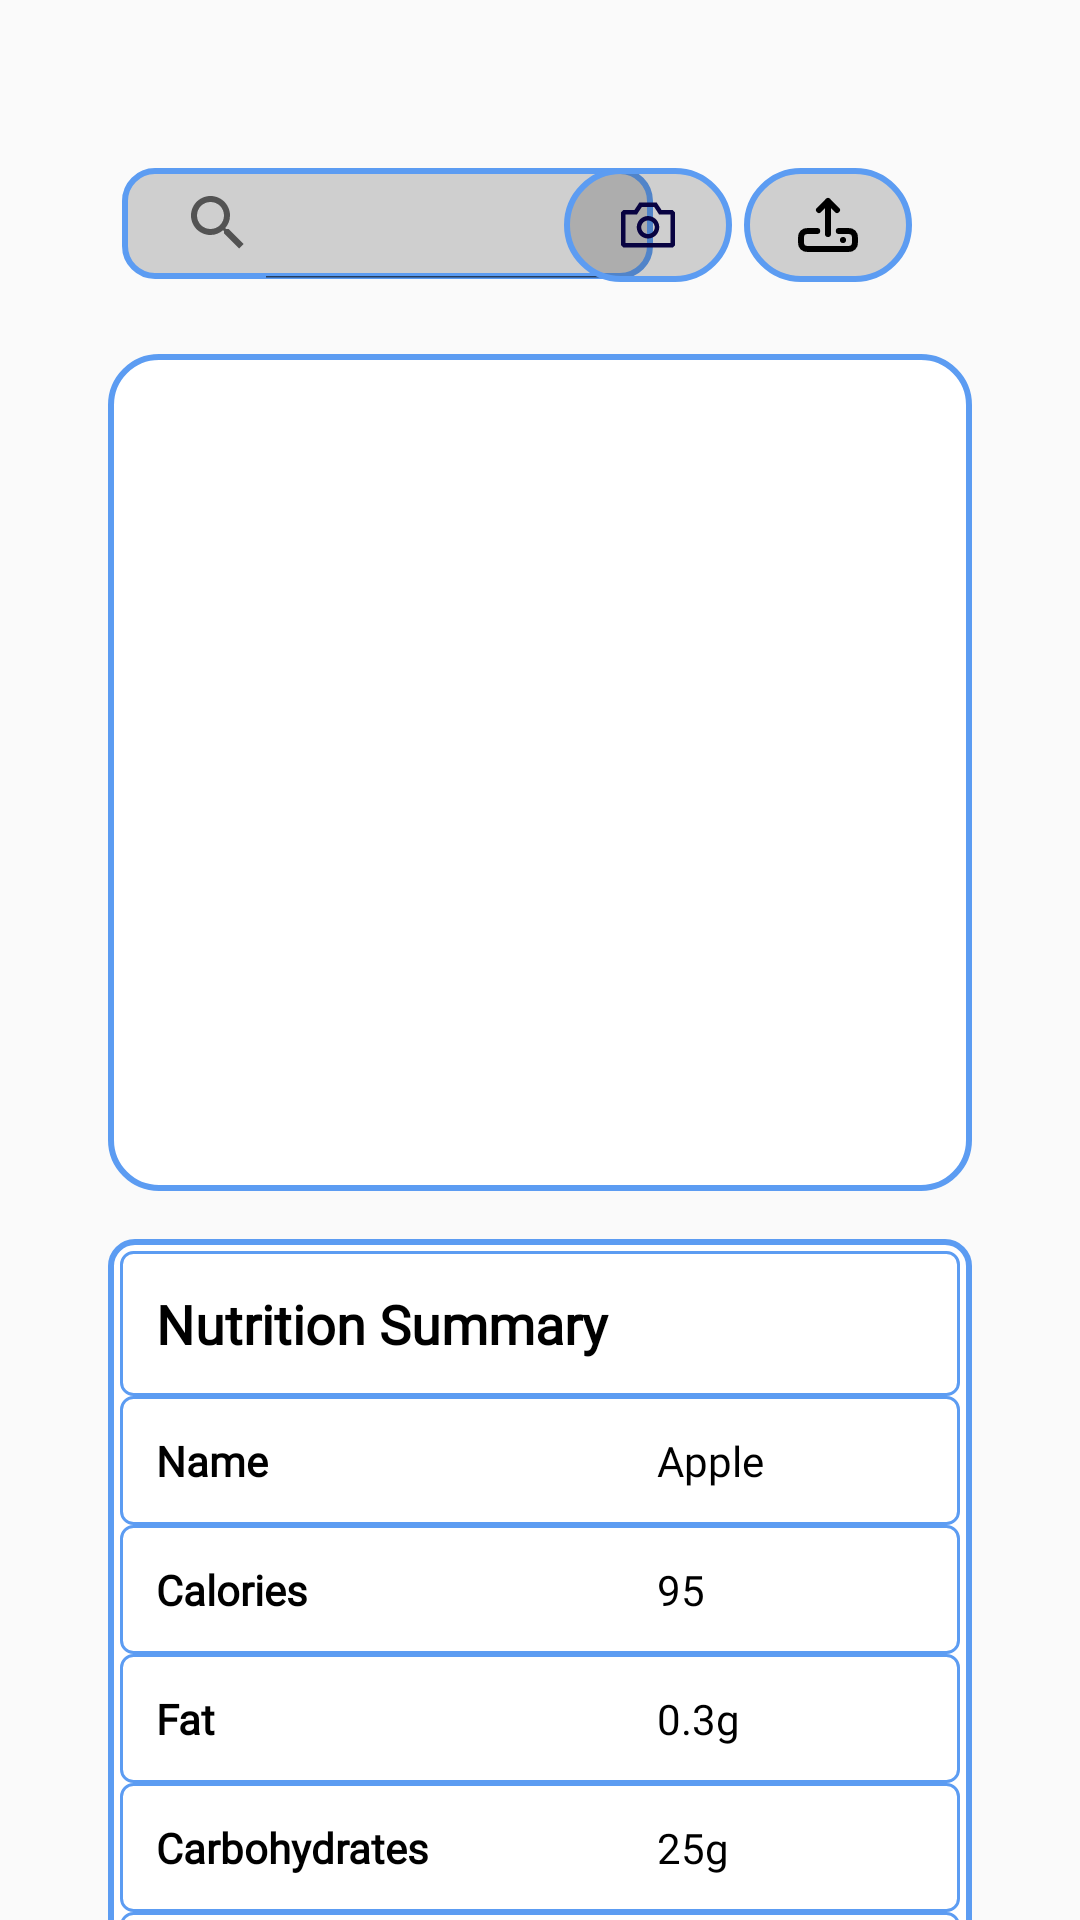

Screen size 1080 × 1920. Icon name, then its center in pixels as (x=x, y=y):
upload: (x=828, y=225)
